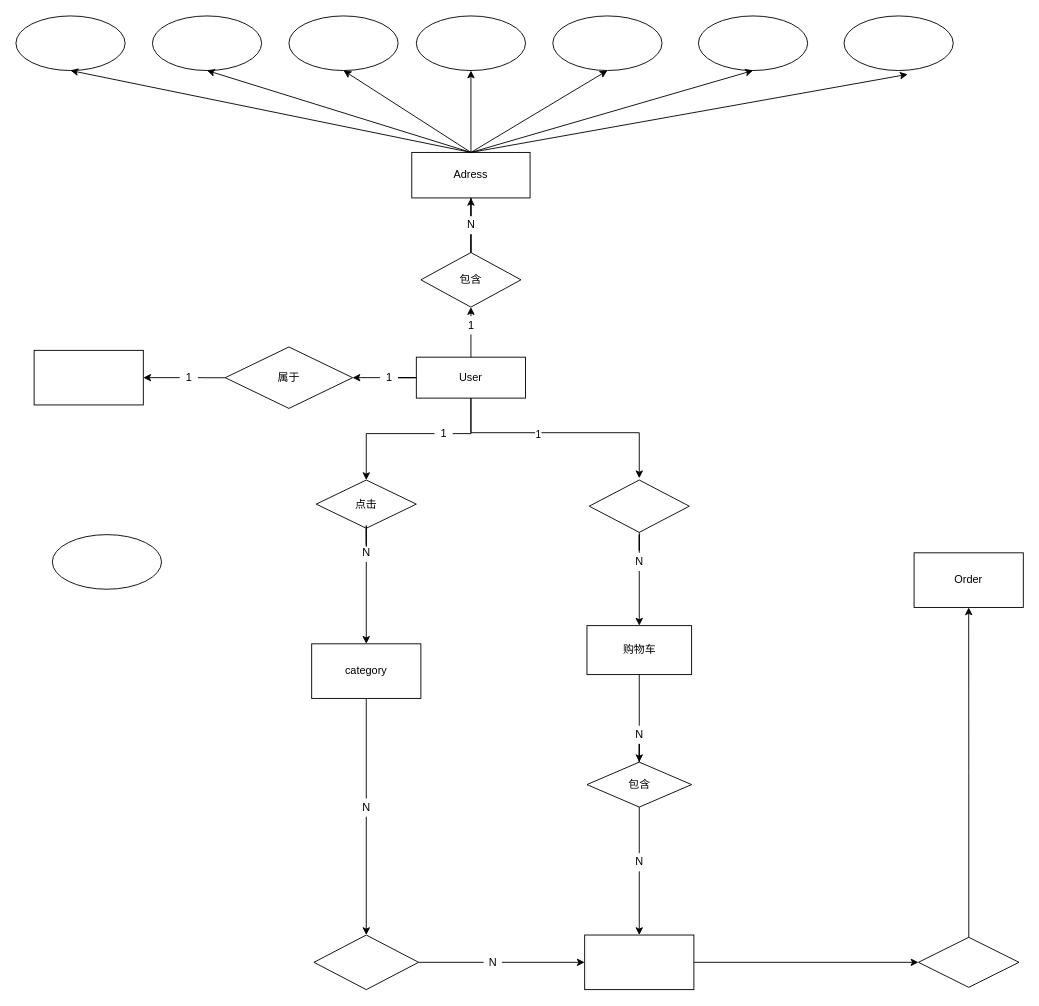
This 1039x1006 diagram has some shape labels left out. The shapes that lost their labels are listed below. From the top down, each one's box as (x1, y1, x2, y2) in pixels, then its label:
(33, 349, 143, 405): UserInfo
(588, 479, 689, 532): 拥有
(313, 934, 419, 990): 对应
(584, 934, 694, 990): 商品
